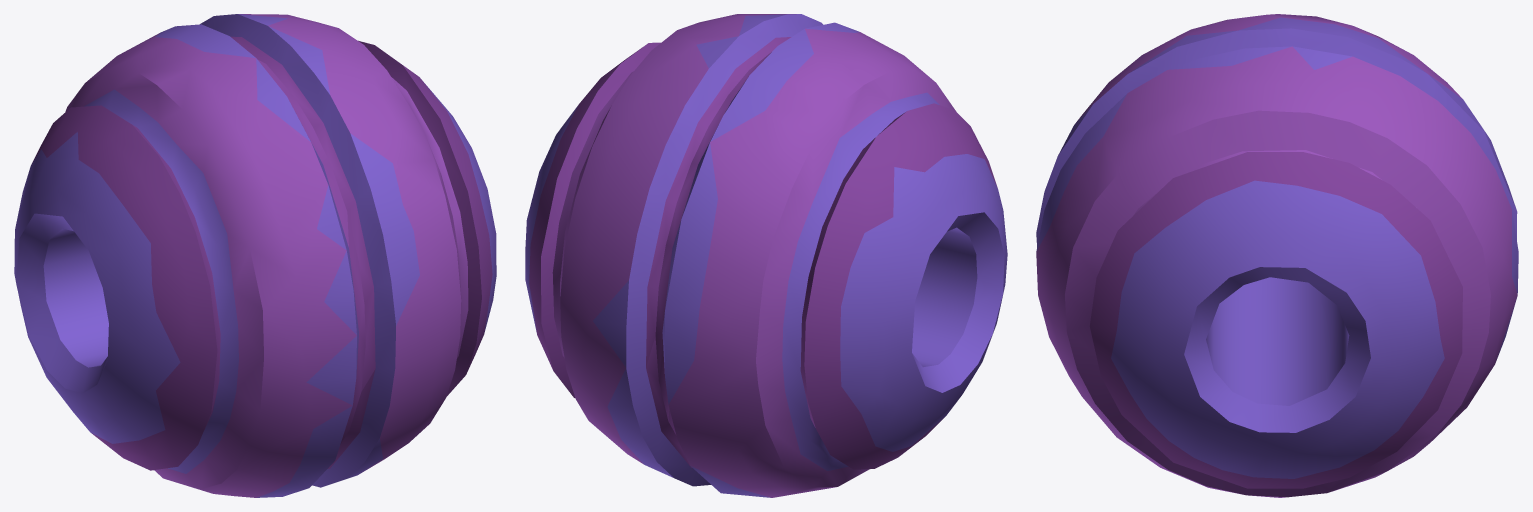
Rendered from Planet_8_Sphere.obj.
The picture shows the model from 3 angles, left to right: view 1: azimuth 30°, elevation 25°; view 2: azimuth 150°, elevation 25°; view 3: azimuth 270°, elevation 25°; orthographic projection.
Visible parts, largest first — view 1: Planet_8_Sphere.008; view 2: Planet_8_Sphere.008; view 3: Planet_8_Sphere.008.
Part boxes in pixels (x1,y1,x2,y2): Planet_8_Sphere.008: (14, 14, 496, 497); Planet_8_Sphere.008: (525, 14, 1007, 497); Planet_8_Sphere.008: (1036, 14, 1518, 497).
Bounding box in the file's own units: 3.45 × 3.75 × 3.75.
